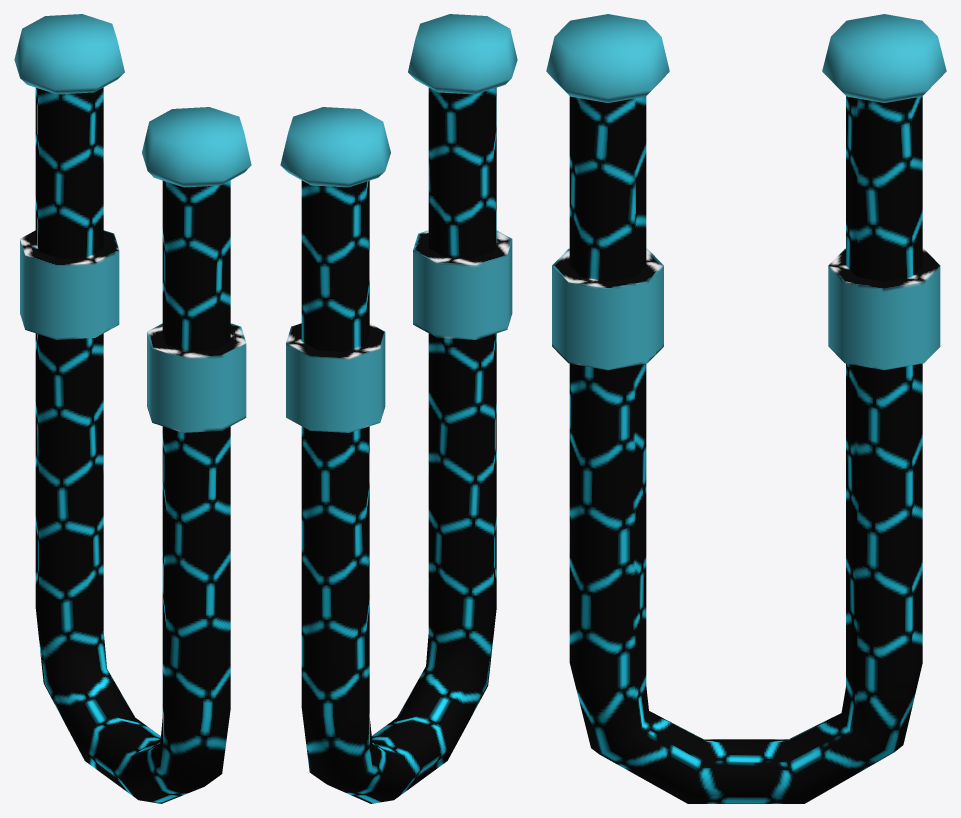
File: SM_Cord_04.fbx
3 renders of one model, left to right at view 1: azimuth 30°, elevation 25°; view 2: azimuth 150°, elevation 25°; view 3: azimuth 270°, elevation 25°, orthographic. The views are drawn at different scales.
Visible parts, largest first — view 1: SM_Cord_04; view 2: SM_Cord_04; view 3: SM_Cord_04.
Boxes of the visible parts, left/top/right/bottom form: SM_Cord_04: left=14, top=14, right=251, bottom=803; SM_Cord_04: left=280, top=14, right=517, bottom=803; SM_Cord_04: left=546, top=14, right=946, bottom=803.
Bounding box in the file's own units: 9.18 × 29.49 × 62.11.
